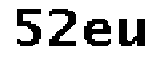2: (46, 5, 79, 51)
5: (10, 4, 42, 48)
e: (82, 16, 115, 49)
u: (115, 12, 148, 53)
